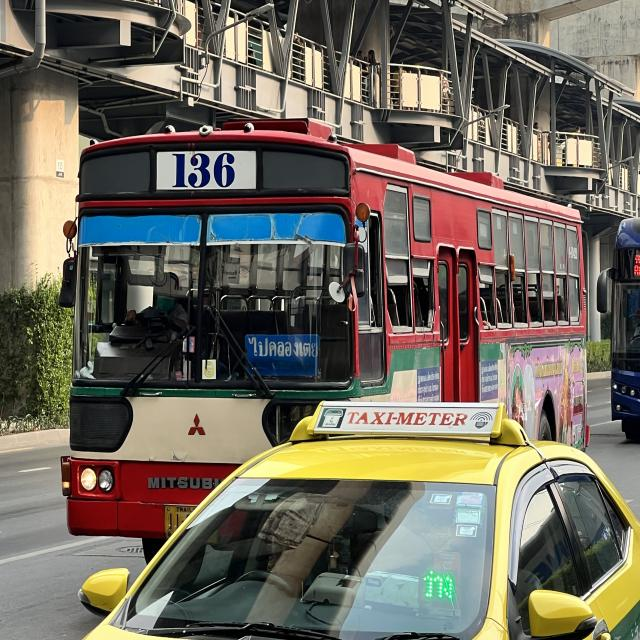BMTA-bus: (61, 119, 589, 550)
Bus-Line-Number: (167, 149, 240, 192)
Destination-Sign-Normal: (245, 333, 321, 380)
